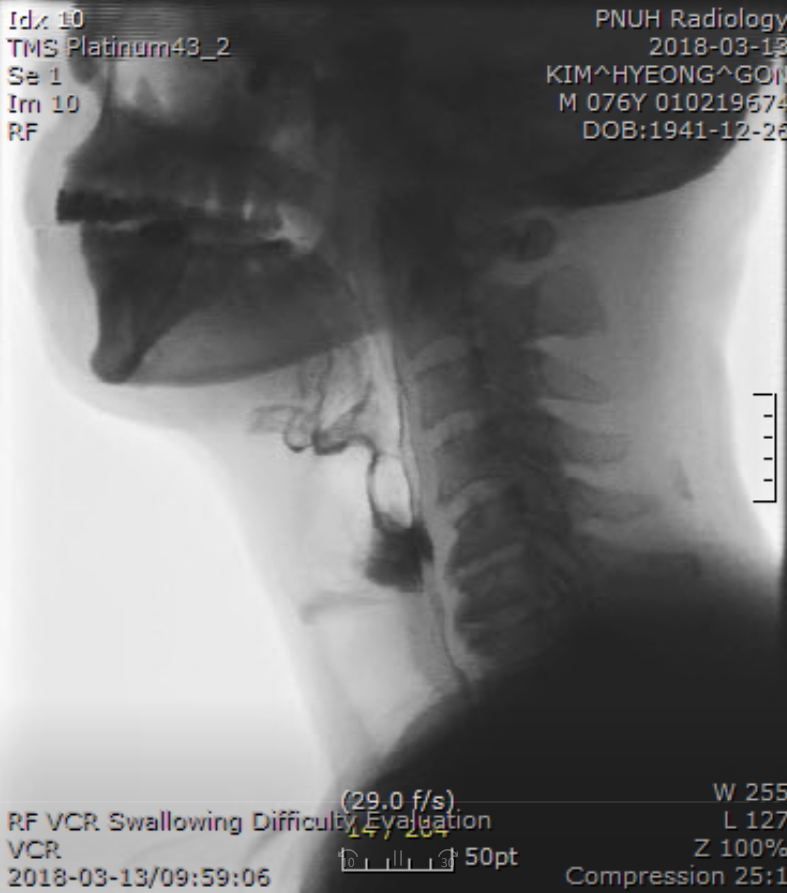dros: (361, 469, 426, 537)
food: (359, 508, 437, 600)
uros: (290, 384, 371, 465)
